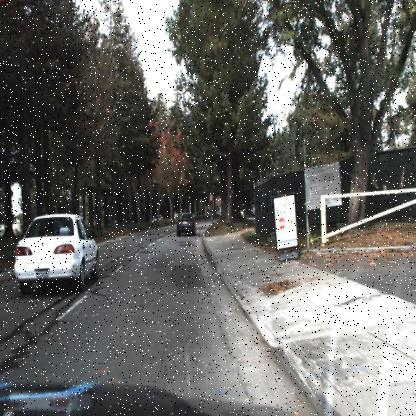car: (16, 209, 99, 290), (177, 211, 195, 236), (152, 215, 164, 223)
